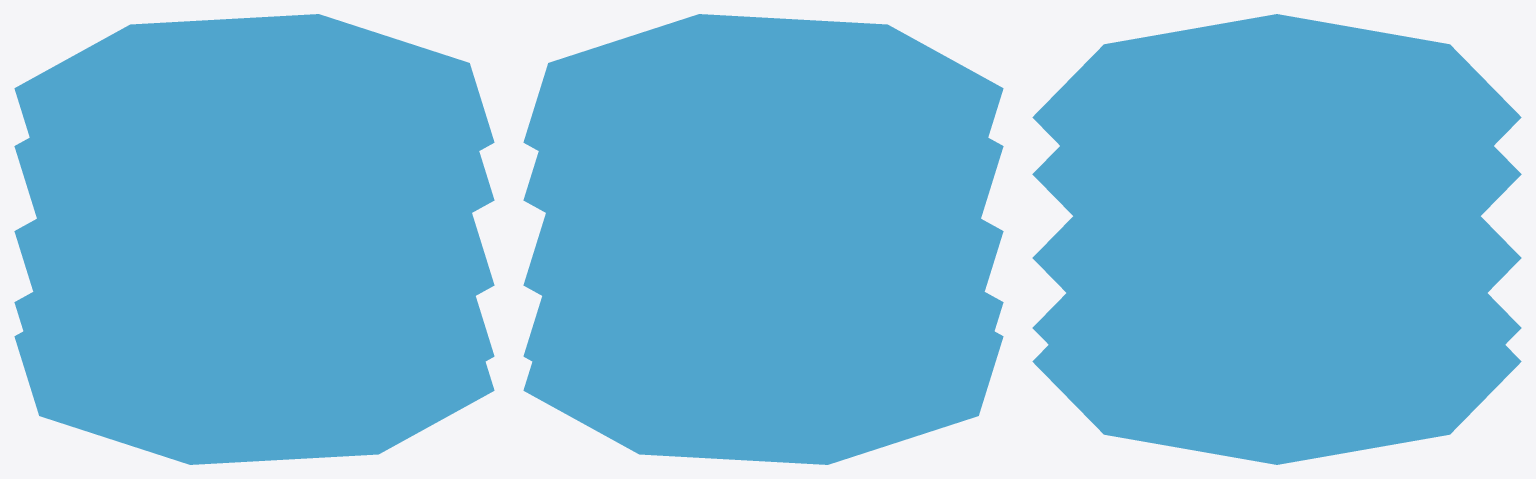
Rendered from Bucket_AllLevels.fbx.
3 renders of one model, left to right at view 1: azimuth 30°, elevation 25°; view 2: azimuth 150°, elevation 25°; view 3: azimuth 270°, elevation 25°, orthographic.
Parts seen in each view (by area): view 1: Water, Water3, Water4, Water2, Water5; view 2: Water, Water3, Water4, Water2, Water5; view 3: Water, Water3, Water4, Water2, Water5.
Part boxes in pixels (x1=…): Water: x1=14, y1=14, x2=494, y2=216; Water3: x1=14, y1=213, x2=494, y2=359; Water4: x1=14, y1=292, x2=494, y2=430; Water2: x1=14, y1=138, x2=494, y2=274; Water5: x1=14, y1=331, x2=494, y2=464; Water: x1=523, y1=14, x2=1003, y2=216; Water3: x1=523, y1=213, x2=1003, y2=359; Water4: x1=523, y1=292, x2=1003, y2=430; Water2: x1=523, y1=138, x2=1003, y2=274; Water5: x1=523, y1=331, x2=1003, y2=464; Water: x1=1032, y1=14, x2=1521, y2=220; Water3: x1=1032, y1=216, x2=1521, y2=361; Water4: x1=1032, y1=293, x2=1521, y2=431; Water2: x1=1032, y1=146, x2=1521, y2=277; Water5: x1=1032, y1=345, x2=1521, y2=464.
Bounding box in the file's own units: 77.56 × 42.69 × 77.56.
